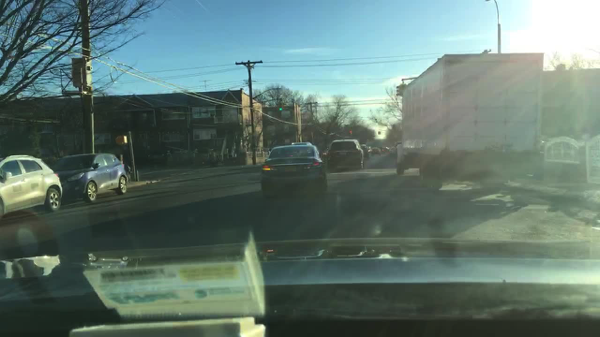car: (47, 151, 132, 205), (0, 154, 65, 221), (260, 144, 328, 200), (326, 139, 367, 173), (360, 144, 373, 160), (389, 141, 400, 154), (320, 150, 331, 159), (291, 143, 314, 146), (372, 147, 380, 155), (381, 147, 388, 153)
traffic light: (113, 135, 128, 145), (396, 84, 403, 98), (277, 100, 282, 111), (347, 129, 352, 136), (377, 131, 381, 135)
truck: (389, 50, 546, 191)
